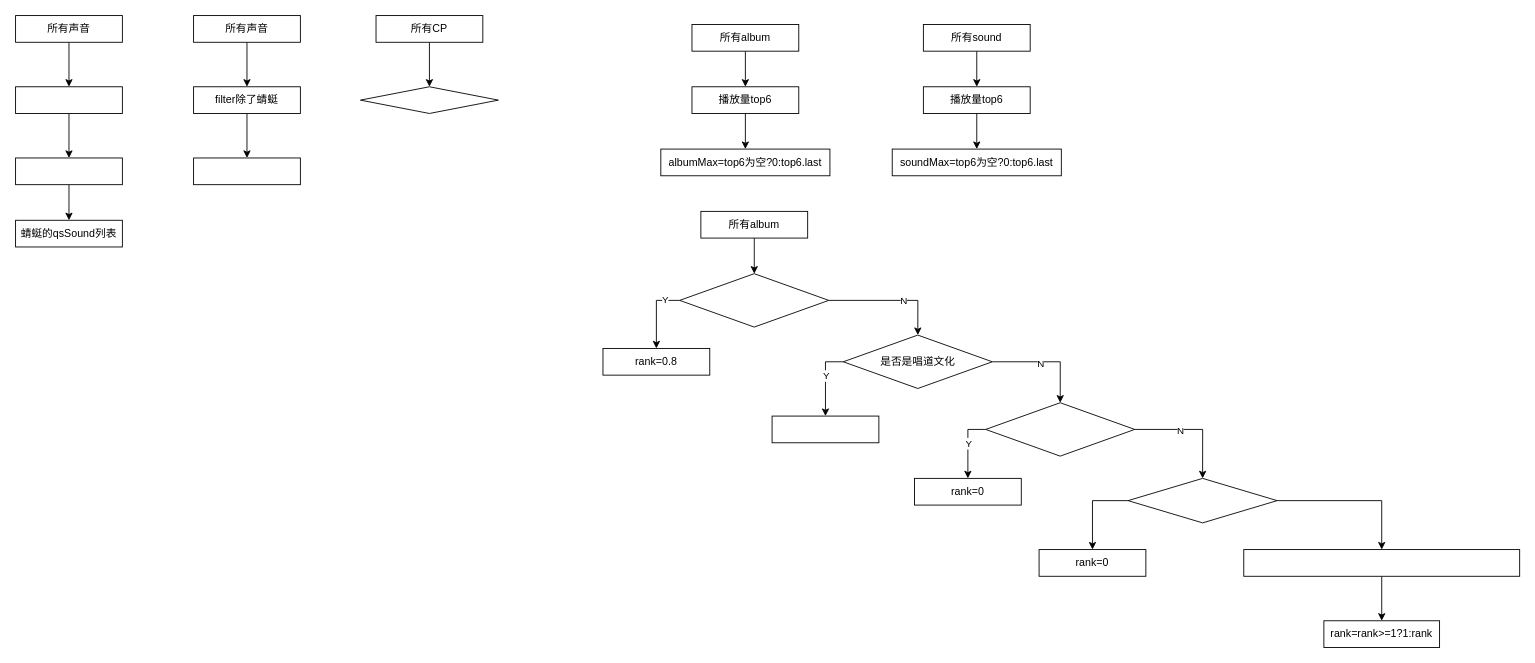
The diagram is 1535 pixels wide and 663 high, and some of its shapes have lost their labels. Each missing label, with the box of its shape:
albumMax==0: (985, 402, 1135, 456)
album播放量>=1: (1127, 477, 1277, 523)
filter出蜻蜓: (15, 86, 122, 113)
rank = log10(album播放量)/log10(albumMax): (1243, 549, 1520, 576)
rank=0.9: (771, 415, 879, 443)
所有sound列表: (193, 157, 300, 185)
是否是得到或得到听书: (679, 273, 829, 327)
是否是蜻蜓: (360, 86, 498, 113)
计算playCount: (15, 157, 122, 185)
